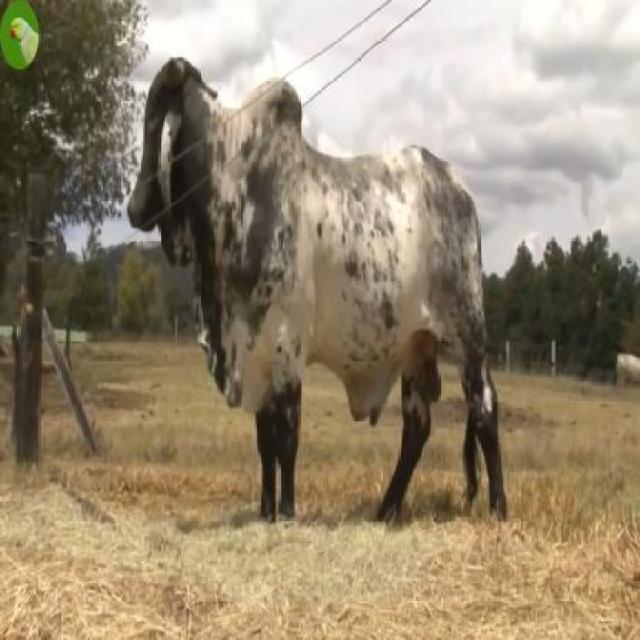Cow: (128, 57, 510, 532)
